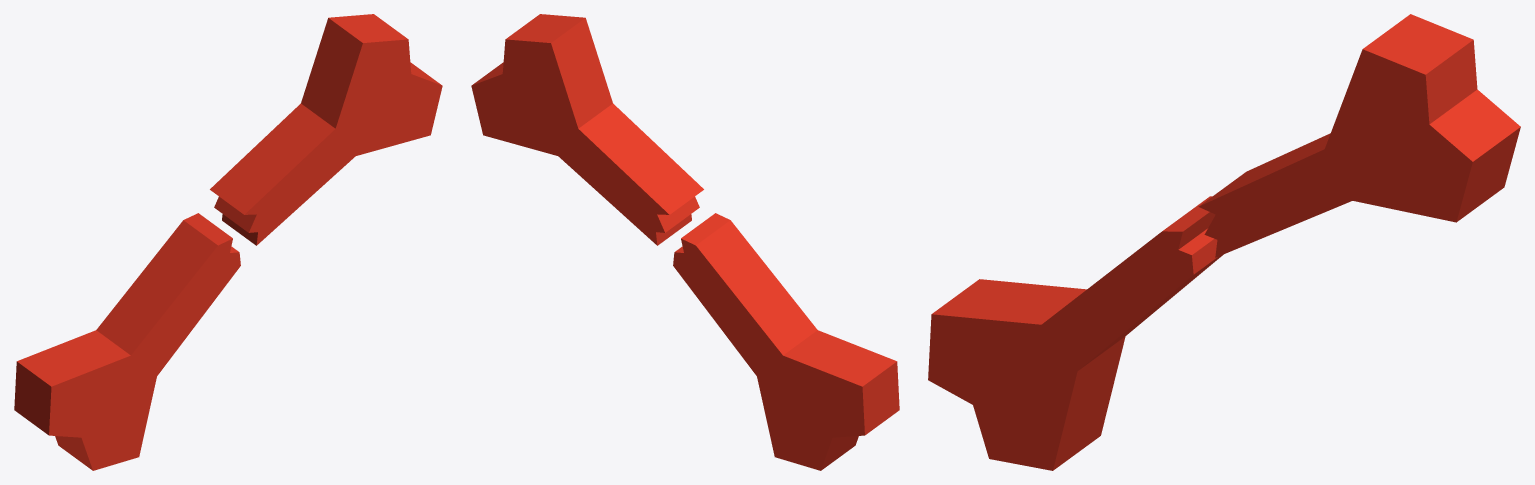
File: Icon_Bone_02.fbx
3 renders of one model, left to right at view 1: azimuth 30°, elevation 25°; view 2: azimuth 150°, elevation 25°; view 3: azimuth 330°, elevation 25°, orthographic. The views are drawn at different scales.
Parts seen in each view (by area): view 1: Icon_Bone_02; view 2: Icon_Bone_02; view 3: Icon_Bone_02.
Part boxes in pixels (box(x1,y1,x2,y2)): Icon_Bone_02: box(14, 14, 442, 470); Icon_Bone_02: box(471, 14, 899, 470); Icon_Bone_02: box(928, 14, 1520, 470).
Size of the model in its own units: 78.97 by 69.38 by 12.06.
